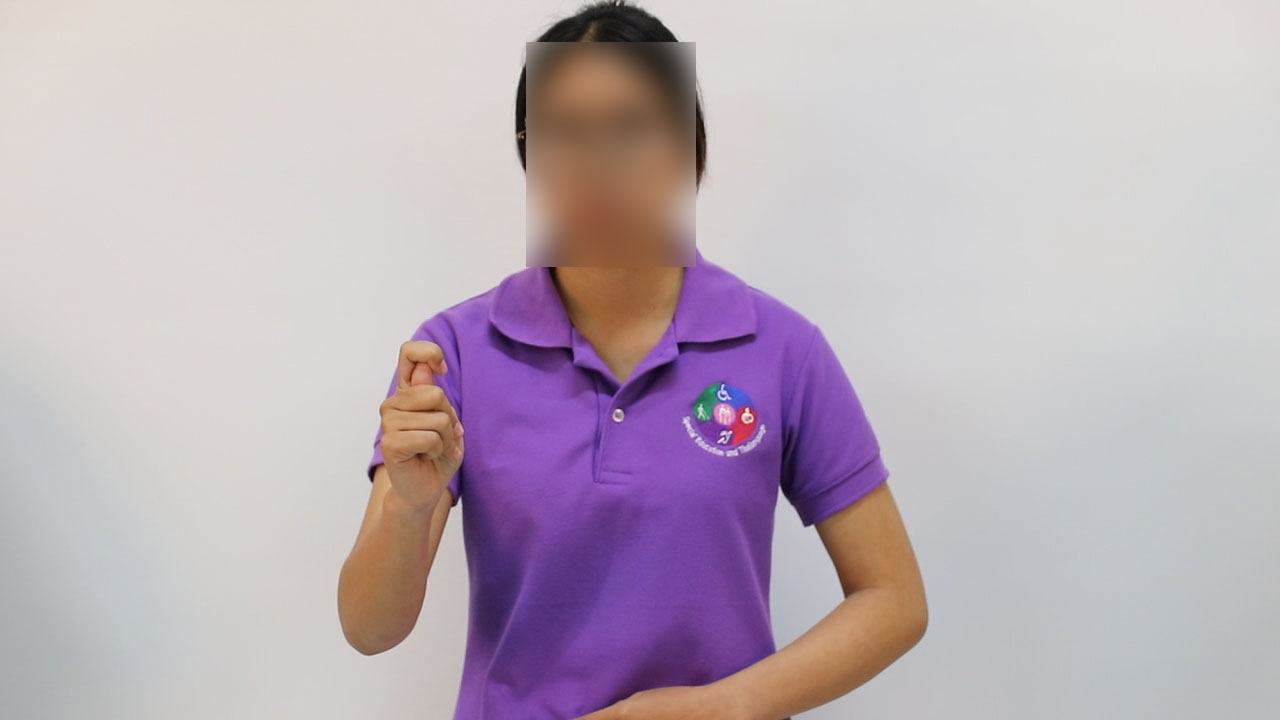or: (365, 332, 471, 514)
